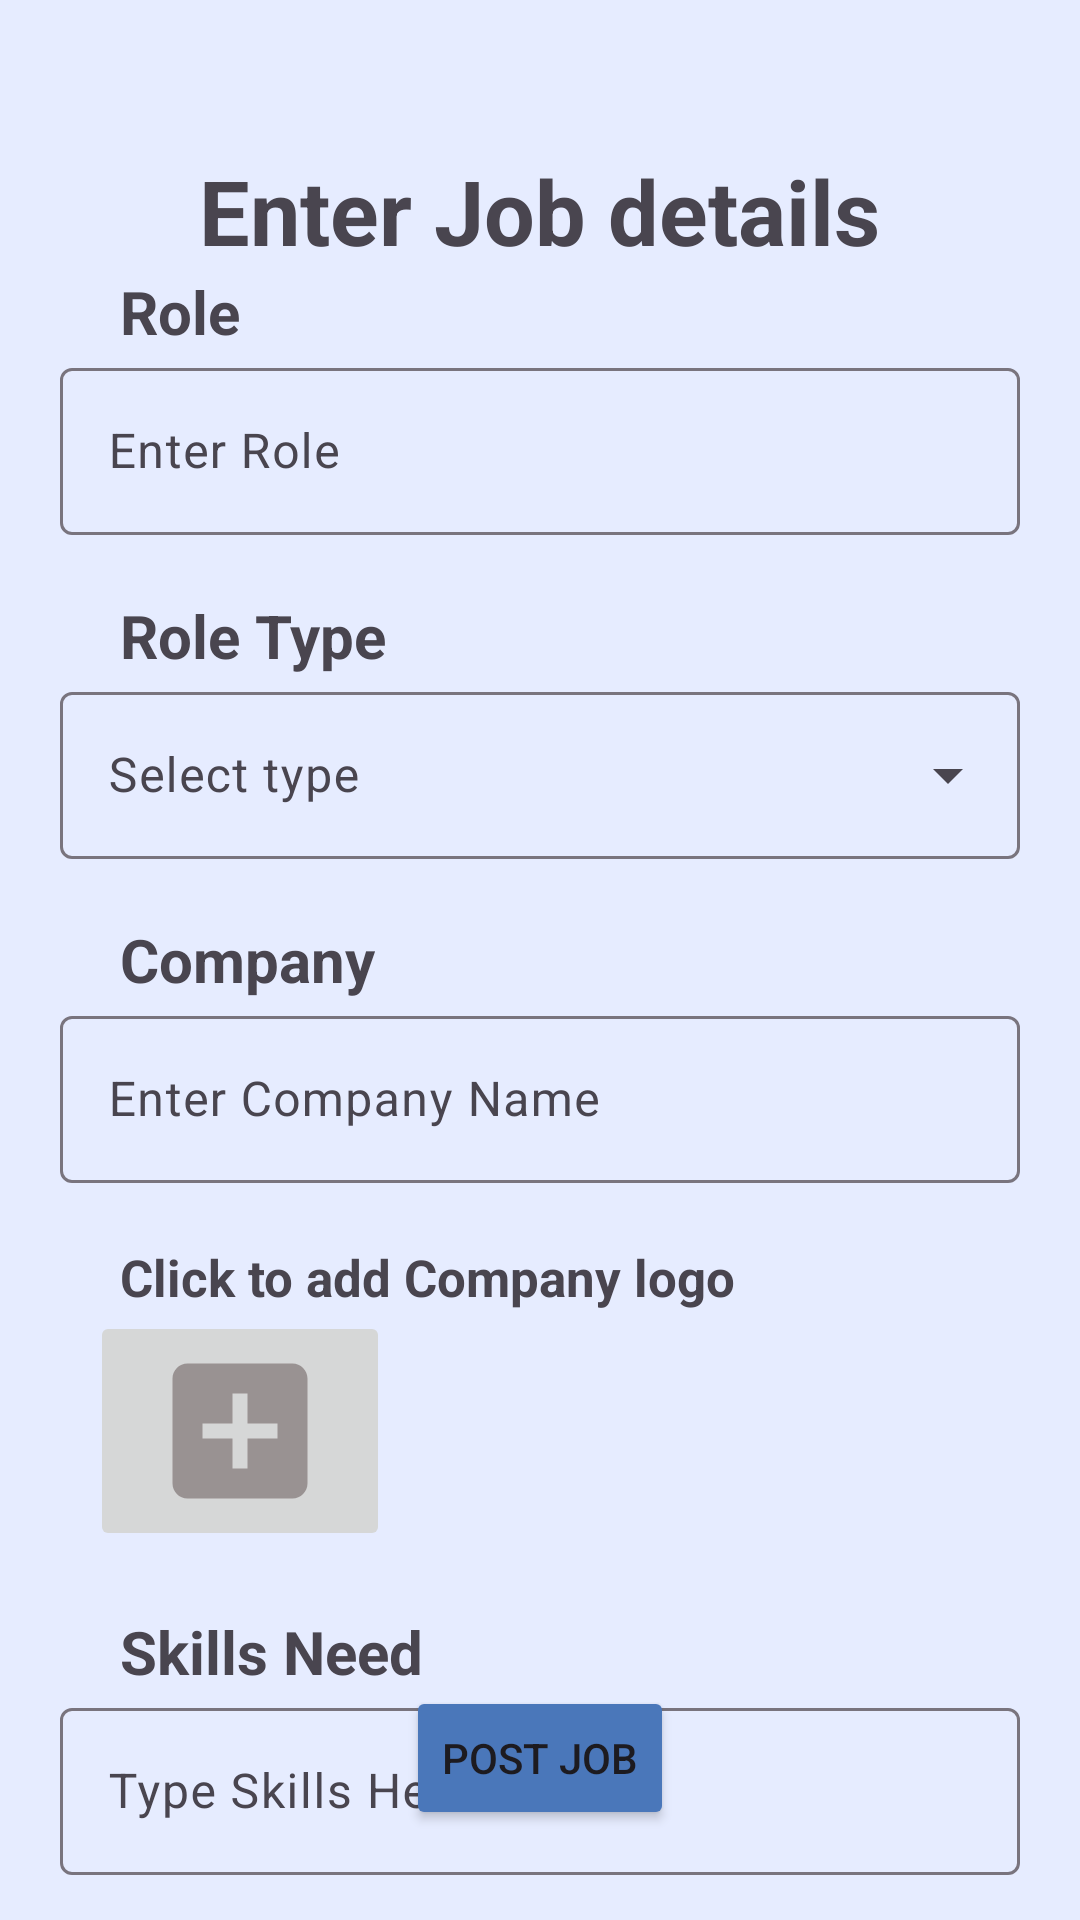

Icon click points for this 1080 x 1920 phone screenshot, format [x,y]:
Add Image 2: [240,1431]
